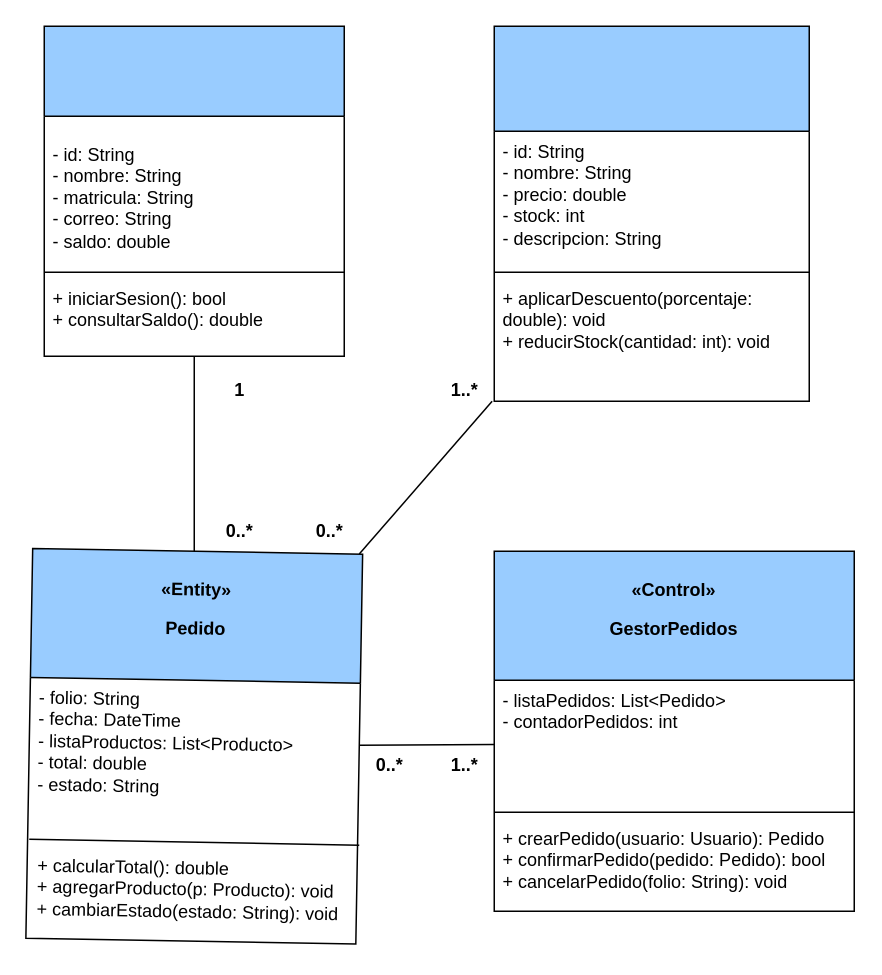
The diagram is 882 pixels wide and 975 high, and some of its shapes have lost their labels. Each missing label, with the box of its shape:
«Entity» Producto: (493, 25, 809, 401)
«Entity» Usuario: (43, 25, 344, 356)
